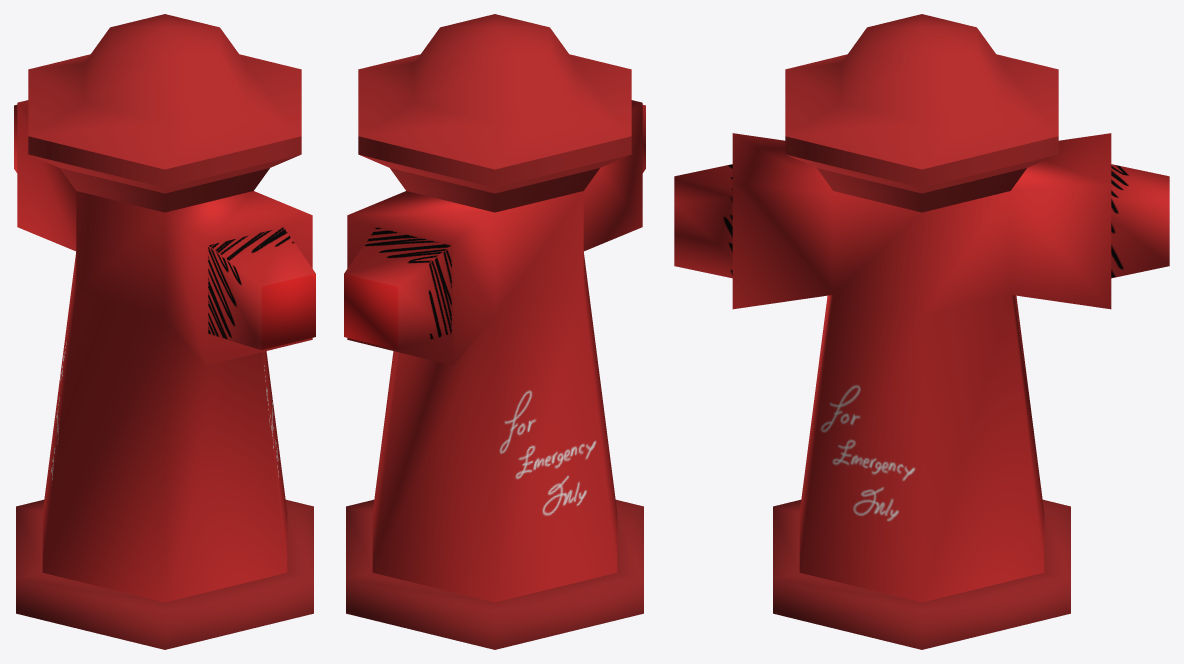
File: firehydrant.fbx
3 renders of one model, left to right at view 1: azimuth 30°, elevation 25°; view 2: azimuth 150°, elevation 25°; view 3: azimuth 270°, elevation 25°, orthographic.
Visible parts, largest first — view 1: pCylinder3; view 2: pCylinder3; view 3: pCylinder3.
Boxes of the visible parts, x1,y1,x2,y2 form: pCylinder3: [14, 14, 315, 649]; pCylinder3: [344, 14, 645, 649]; pCylinder3: [674, 14, 1169, 649].
Size of the model in its own units: 2.76 by 4.86 by 3.97.
